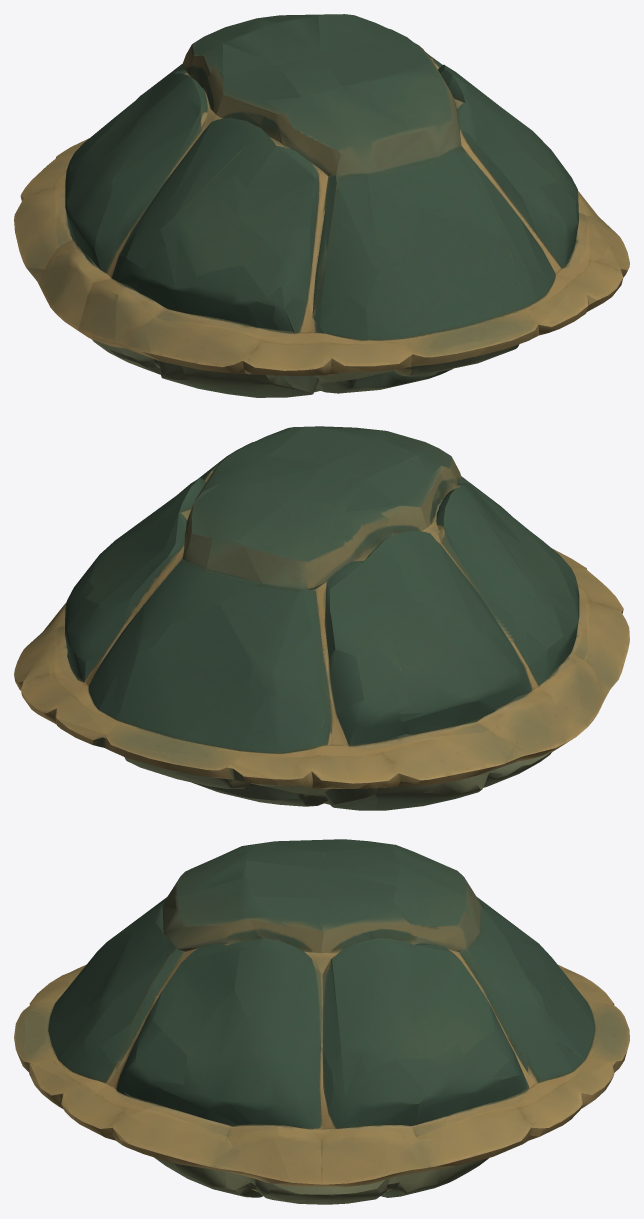
The model's file is shell.glb.
3 renders of one model, top to bottom at view 1: azimuth 30°, elevation 25°; view 2: azimuth 150°, elevation 25°; view 3: azimuth 270°, elevation 25°, orthographic. The views are drawn at different scales.
Size of the model in its own units: 1.72 by 0.982 by 1.9.
Materials: 1 (1 with a texture image).
